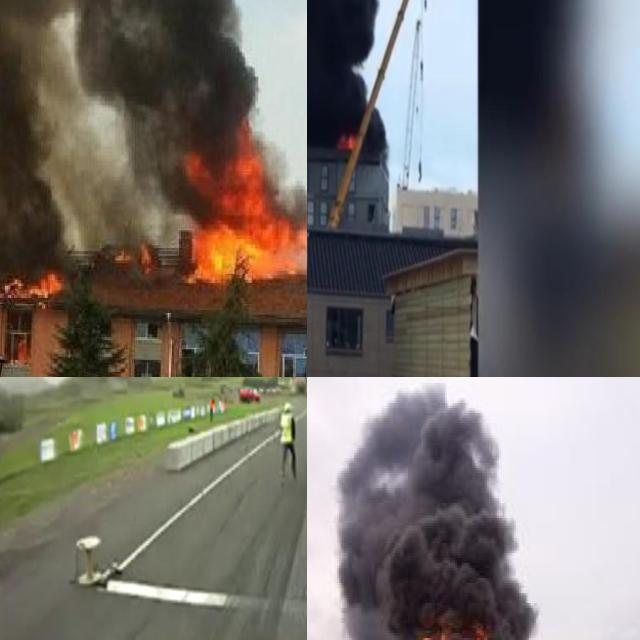fire: (183, 133, 307, 281), (9, 268, 65, 298), (116, 241, 156, 269), (11, 333, 29, 366), (338, 129, 360, 151)
smoke: (0, 0, 254, 227), (333, 381, 530, 640), (95, 0, 250, 165), (307, 0, 386, 146)
